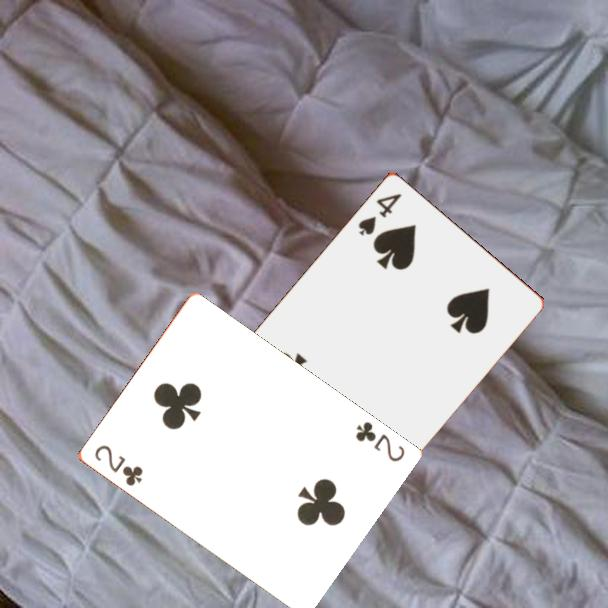c02: (90, 441, 145, 489), (351, 418, 407, 465)
s04: (355, 189, 404, 238)
